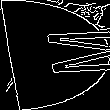M_W: (5, 30, 105, 80)
